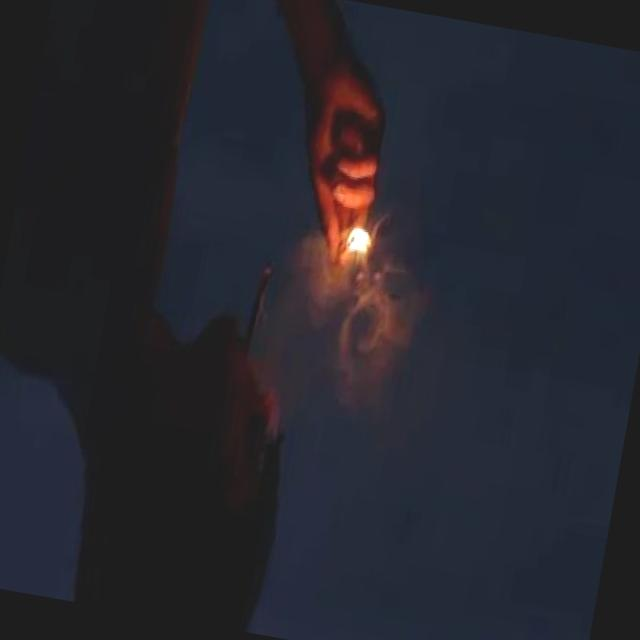smoke: (236, 256, 280, 364)
